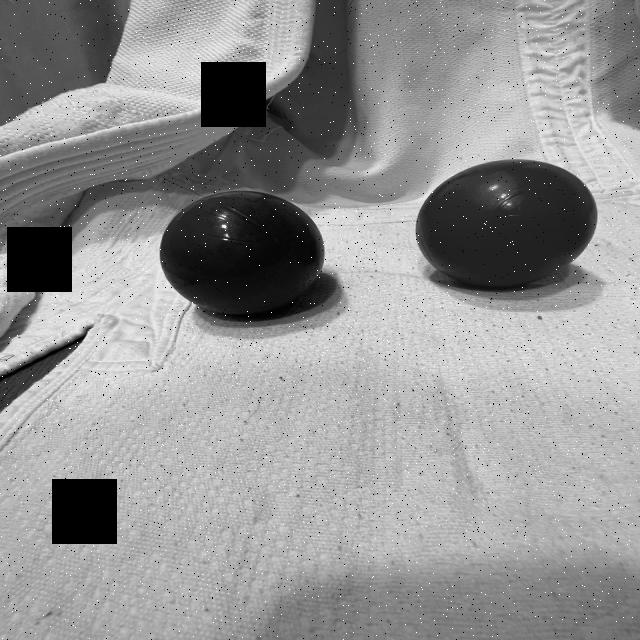ball: (410, 155, 601, 290), (157, 187, 326, 320)
